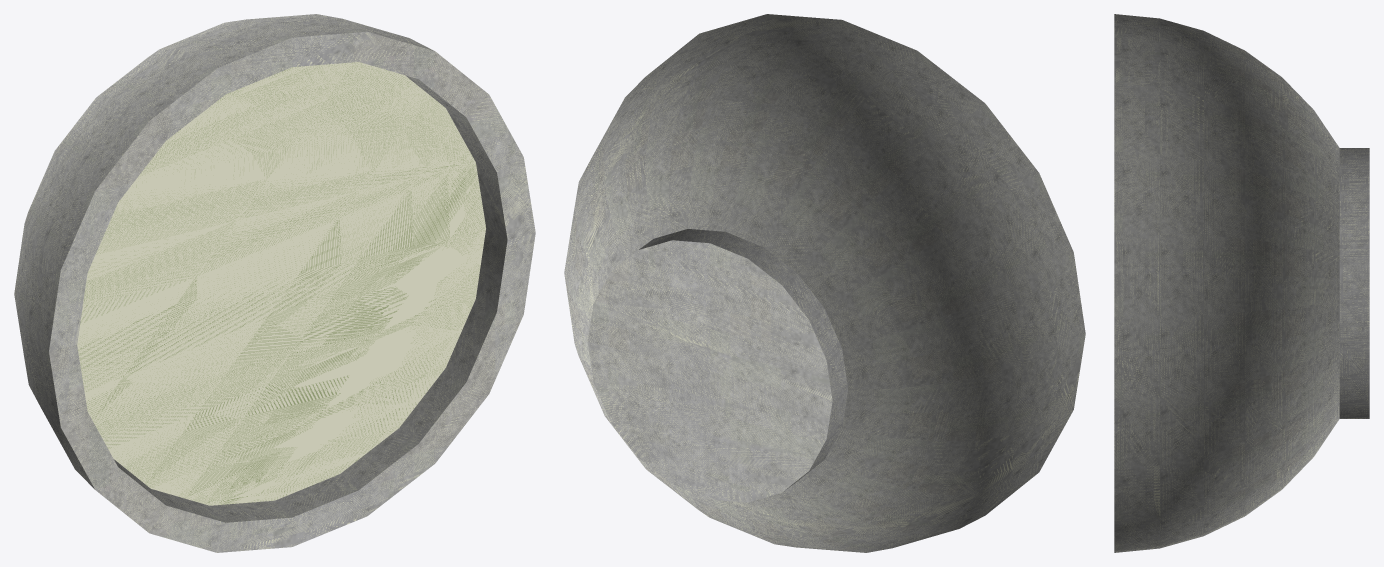
Rendered from model_align.obj.
3 views of the same model, side by side, from view 1: azimuth 30°, elevation 25°; view 2: azimuth 150°, elevation 25°; view 3: azimuth 270°, elevation 25° (orthographic). The views are drawn at different scales.
Visible parts, largest first — view 1: mesh1_mesh1-geometry; view 2: mesh1_mesh1-geometry; view 3: mesh1_mesh1-geometry.
Part boxes in pixels (bbox=[...]): mesh1_mesh1-geometry: bbox=[14, 14, 535, 552]; mesh1_mesh1-geometry: bbox=[564, 14, 1085, 552]; mesh1_mesh1-geometry: bbox=[1114, 14, 1369, 552].
Size of the model in its own units: 0.1628 by 0.1628 by 0.0766.
3 materials, 1 textured.
